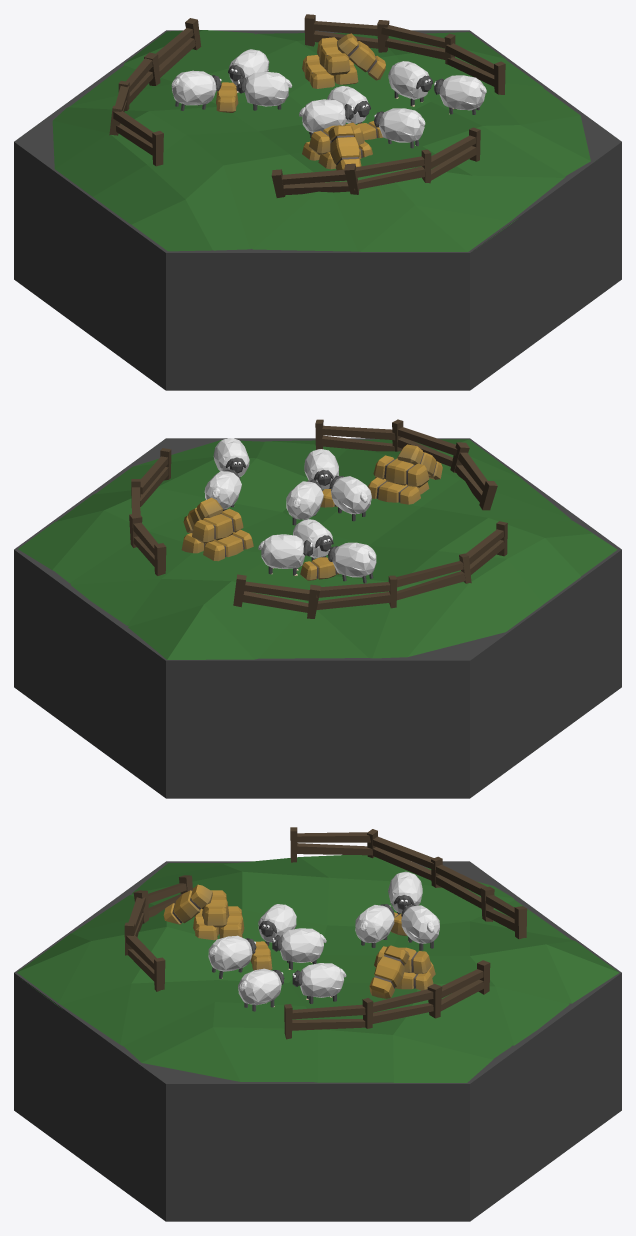
File: sheep.glb
The picture shows the model from 3 angles, top to bottom: view 1: azimuth 30°, elevation 25°; view 2: azimuth 150°, elevation 25°; view 3: azimuth 270°, elevation 25°; orthographic projection.
Parts seen in each view (by area): view 1: Base_Tile, Ground, Cube_Fence_0.002, Cube.006_Fence_0.005, Cube_Fence_0, Cube.006_Fence_0, Cube_Fence_0.001, Cube.006_Fence_0.001, pCylinder12_wool_0.004, pCylinder12_wool_0.001, pCylinder12_wool_0.005, pCylinder12_wool_0.002 (+13 smaller); view 2: Base_Tile, Ground, Cube_Fence_0.001, Cube.006_Fence_0.002, Cube.006_Fence_0.006, Cube.006_Fence_0.003, pCylinder12, Cube_Fence_0.002, Cube.006_Fence_0.005, pCylinder12_wool_0.002, Object_2.002, pCylinder12_wool_0.007 (+14 smaller); view 3: Base_Tile, Ground, Cube.006_Fence_0.001, Cube.006_Fence_0.004, Cube_Fence_0, Cube.006_Fence_0, Cube.006_Fence_0.003, Object_2.005, Cube_Fence_0.001, pCylinder12_wool_0.006, pCylinder12_wool_0.003, Cube.006_Fence_0.002 (+14 smaller).
Boxes of the visible parts, x1,y1,x2,y2 form: Base_Tile: [14, 30, 621, 390]; Ground: [52, 30, 590, 251]; Cube_Fence_0.002: [271, 163, 359, 197]; Cube.006_Fence_0.005: [354, 149, 431, 190]; Cube_Fence_0: [304, 14, 389, 52]; Cube.006_Fence_0: [381, 25, 455, 64]; Cube_Fence_0.001: [144, 18, 201, 85]; Cube.006_Fence_0.001: [446, 43, 505, 94]; pCylinder12_wool_0.004: [439, 75, 486, 110]; pCylinder12_wool_0.001: [244, 71, 292, 106]; pCylinder12_wool_0.005: [379, 108, 425, 142]; pCylinder12_wool_0.002: [171, 70, 216, 105]; Base_Tile: [14, 438, 621, 798]; Ground: [18, 439, 617, 659]; Cube_Fence_0.001: [233, 574, 320, 618]; Cube.006_Fence_0.002: [316, 575, 397, 609]; Cube.006_Fence_0.006: [315, 419, 395, 451]; Cube.006_Fence_0.003: [396, 553, 471, 600]; pCylinder12: [258, 534, 312, 575]; Cube_Fence_0.002: [450, 442, 497, 510]; Cube.006_Fence_0.005: [392, 419, 457, 466]; pCylinder12_wool_0.002: [332, 542, 376, 577]; Object_2.002: [373, 455, 429, 487]; pCylinder12_wool_0.007: [331, 476, 371, 514]; Base_Tile: [14, 861, 621, 1221]; Ground: [17, 855, 619, 1082]; Cube.006_Fence_0.001: [284, 1004, 365, 1039]; Cube.006_Fence_0.004: [290, 827, 372, 862]; Cube_Fence_0: [427, 960, 490, 1018]; Cube.006_Fence_0: [362, 989, 433, 1028]; Cube.006_Fence_0.003: [367, 829, 433, 880]; Object_2.005: [369, 945, 409, 998]; Cube_Fence_0.001: [480, 886, 527, 939]; pCylinder12_wool_0.006: [280, 928, 326, 962]; pCylinder12_wool_0.003: [300, 963, 346, 997]; Cube.006_Fence_0.002: [431, 856, 486, 908].
Size of the model in its own units: 1.73 by 0.7501 by 2.
53 materials, 18 textured.
